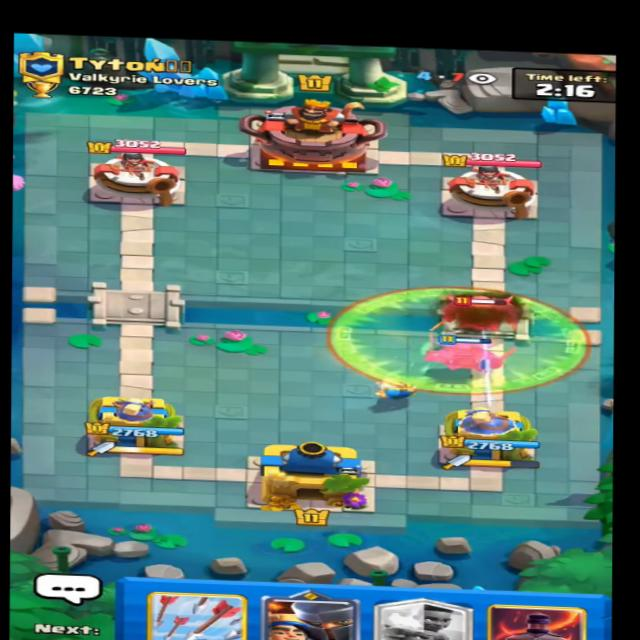goblin-curse: (328, 286, 591, 399)
pekka: (432, 287, 523, 335)
